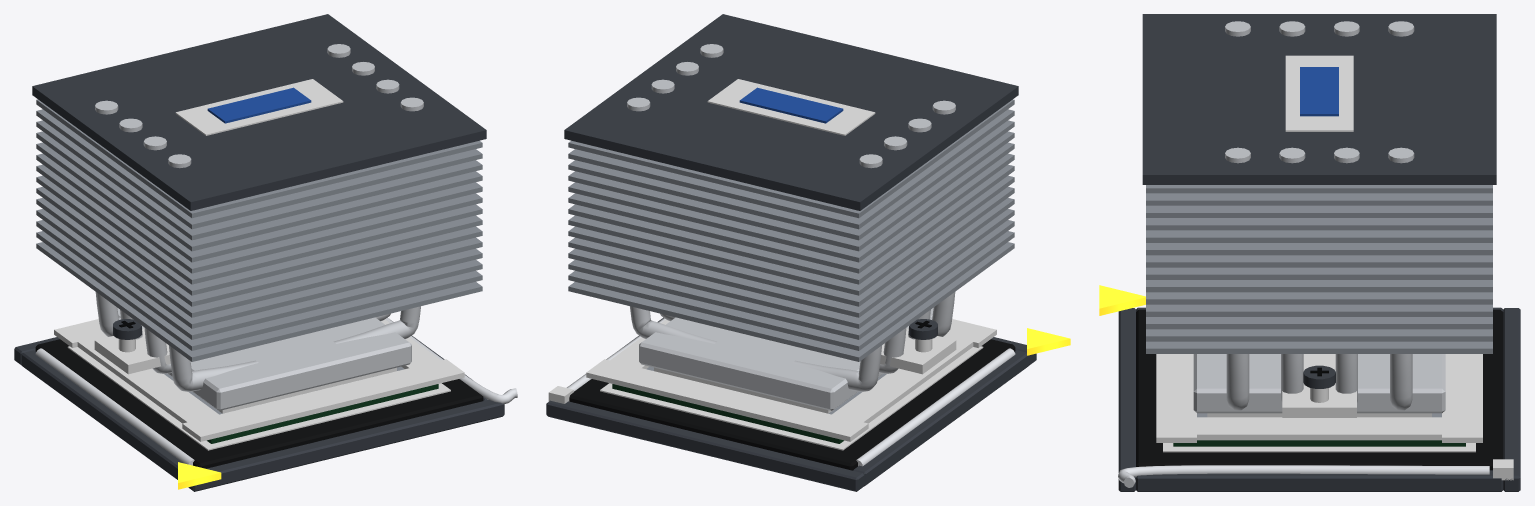
File: hwm_cpu_xeon_gold_6548y.glb
3 views of the same model, side by side, from view 1: azimuth 30°, elevation 25°; view 2: azimuth 150°, elevation 25°; view 3: azimuth 270°, elevation 25° (orthographic). The views are drawn at different scales.
Parts seen in each view (by area): view 1: Cooler, Socket, Frame, CPU, Screw_0, Lever; view 2: Cooler, Socket, Frame, CPU, Screw_0; view 3: Cooler, Socket, Frame, Lever, CPU, Screw_1.
Part boxes in pixels (left/top/right/bottom): Cooler: left=32, top=14, right=486, bottom=410; Socket: left=14, top=320, right=504, bottom=491; Frame: left=54, top=319, right=464, bottom=441; CPU: left=164, top=366, right=438, bottom=443; Screw_0: left=113, top=319, right=141, bottom=352; Lever: left=385, top=317, right=517, bottom=403; Cooler: left=564, top=14, right=1018, bottom=410; Socket: left=546, top=317, right=1070, bottom=491; Frame: left=586, top=319, right=996, bottom=441; CPU: left=612, top=366, right=886, bottom=443; Screw_0: left=909, top=319, right=937, bottom=352; Cooler: left=1142, top=14, right=1496, bottom=417; Socket: left=1099, top=285, right=1520, bottom=491; Frame: left=1156, top=354, right=1482, bottom=442; Lever: left=1118, top=465, right=1489, bottom=487; CPU: left=1173, top=413, right=1465, bottom=446; Screw_1: left=1303, top=365, right=1335, bottom=402.
Size of the model in its own units: 0.1338 by 0.1031 by 0.1239.
